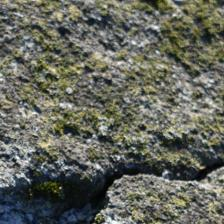Crack: (66, 0, 159, 110), (95, 80, 127, 131)
